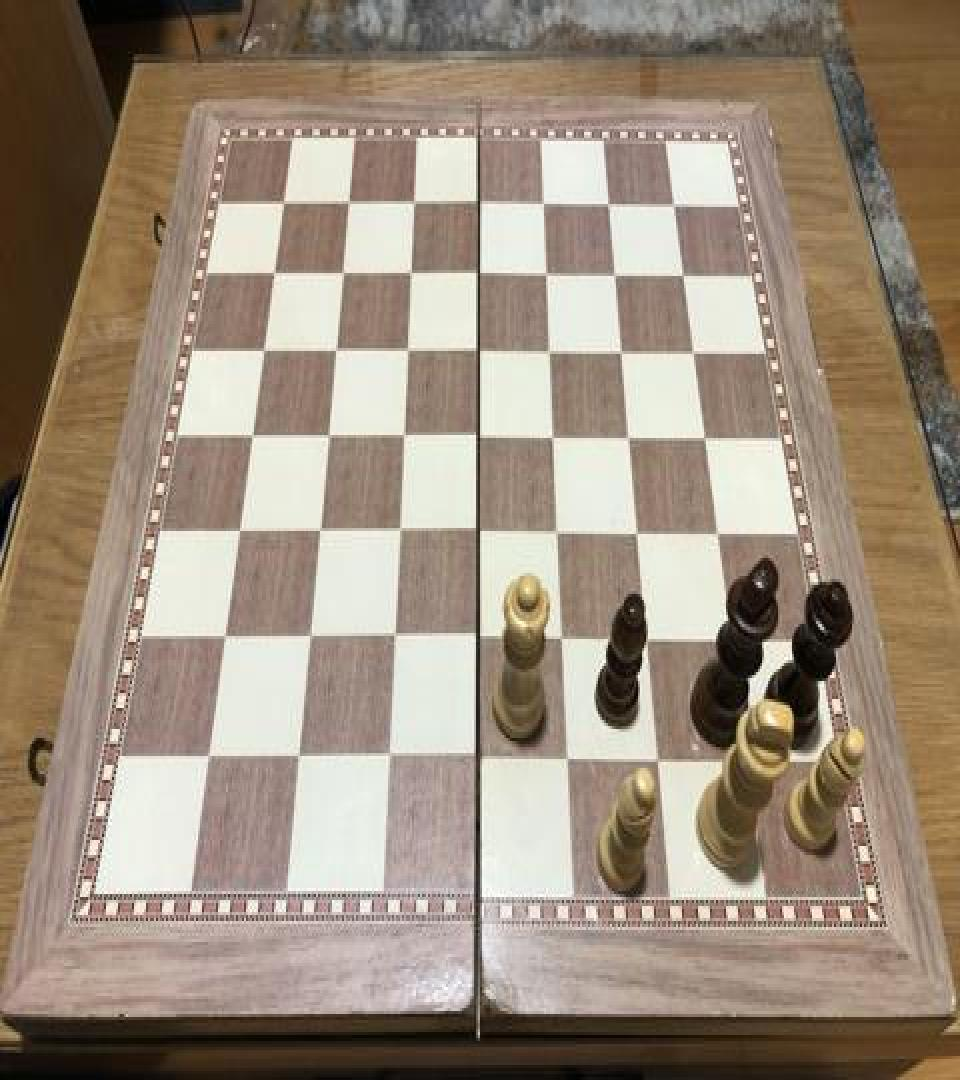xcorner: (468, 514, 492, 551), (389, 514, 413, 551), (722, 625, 746, 662), (468, 622, 492, 659), (378, 742, 402, 779), (199, 739, 223, 776), (664, 186, 688, 222), (599, 186, 623, 222), (534, 186, 558, 222), (469, 184, 493, 220), (404, 184, 428, 220), (340, 184, 364, 220), (275, 184, 299, 220), (673, 256, 697, 292), (605, 256, 629, 292), (537, 256, 561, 292), (469, 255, 493, 291), (401, 255, 425, 291), (333, 255, 357, 291), (265, 255, 289, 291), (684, 334, 708, 370), (612, 334, 636, 370), (540, 334, 564, 370), (469, 333, 493, 369), (397, 333, 421, 369), (326, 332, 350, 368), (255, 332, 279, 368), (695, 422, 719, 458), (619, 420, 643, 456), (544, 420, 568, 456), (468, 420, 492, 456), (393, 418, 417, 454), (318, 418, 342, 454), (243, 417, 267, 453), (708, 518, 732, 554), (628, 516, 652, 552), (548, 516, 572, 552), (309, 513, 333, 549), (230, 513, 254, 549), (637, 624, 661, 660), (552, 624, 576, 660), (383, 621, 407, 657), (299, 620, 323, 656), (216, 620, 240, 656), (738, 747, 762, 783), (647, 746, 671, 782), (557, 744, 581, 780), (467, 744, 491, 780), (288, 741, 312, 777)
